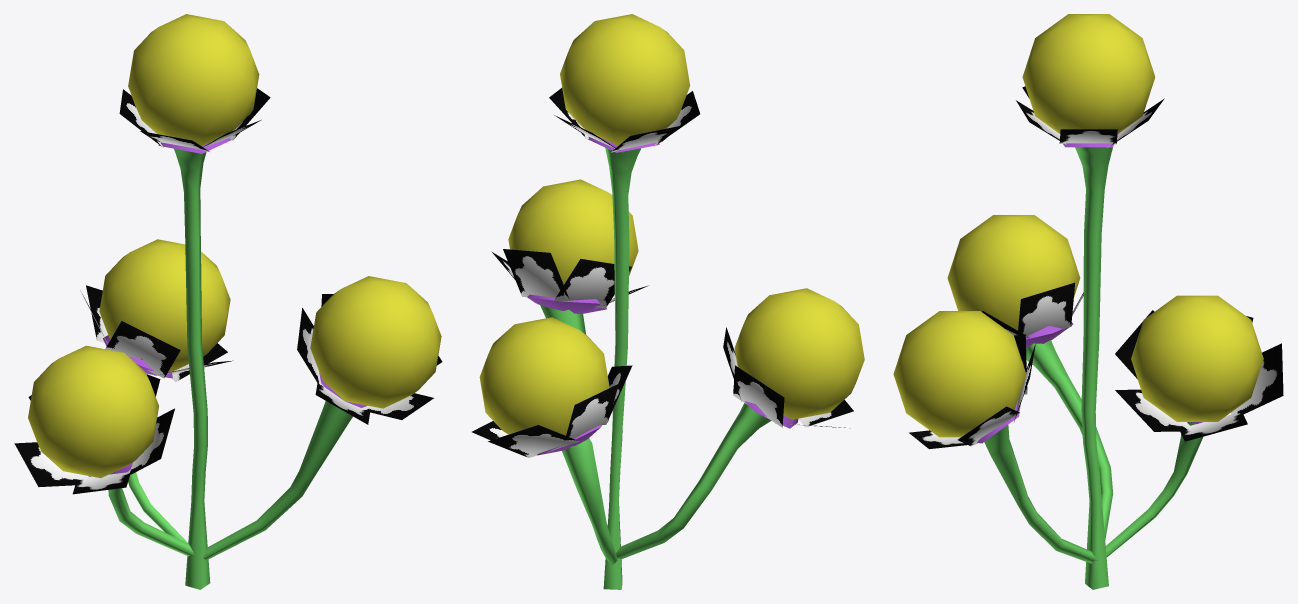
The model's file is BlobFlower.fbx.
The picture shows the model from 3 angles, left to right: view 1: azimuth 30°, elevation 25°; view 2: azimuth 150°, elevation 25°; view 3: azimuth 270°, elevation 25°; orthographic projection.
Visible parts, largest first — view 1: Icosphere.000; view 2: Icosphere.000; view 3: Icosphere.000.
Part boxes in pixels (bbox=[...]): Icosphere.000: bbox=[14, 14, 442, 589]; Icosphere.000: bbox=[472, 14, 864, 589]; Icosphere.000: bbox=[893, 14, 1283, 589].
Bounding box in the file's own units: 58.12 × 52.78 × 84.28.
